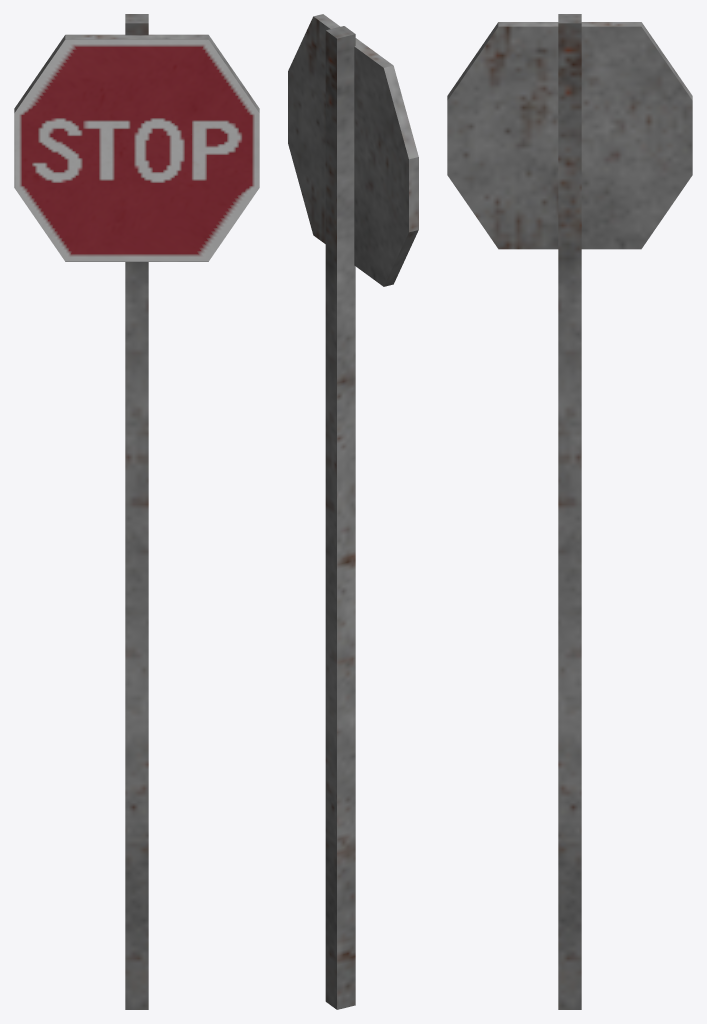
Rendered from Sign_Stop.obj.
3 renders of one model, left to right at view 1: azimuth 90°, elevation 25°; view 2: azimuth 210°, elevation 25°; view 3: azimuth 270°, elevation 25°, orthographic.
Visible parts, largest first — view 1: Sign_Stop; view 2: Sign_Stop; view 3: Sign_Stop.
Boxes of the visible parts, box(x1,y1,x2,y2) form: Sign_Stop: box(14, 14, 259, 1009); Sign_Stop: box(288, 14, 418, 1009); Sign_Stop: box(447, 14, 692, 1009).
Bounding box in the file's own units: 0.0617 × 2.12 × 0.4768.
